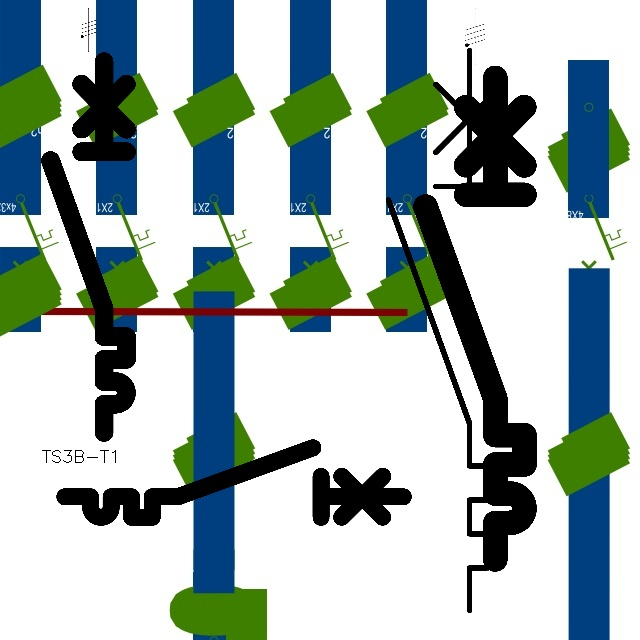interruptor_termomagnetico: (374, 36, 518, 625), (413, 65, 537, 571), (41, 52, 136, 442), (56, 439, 412, 526)
